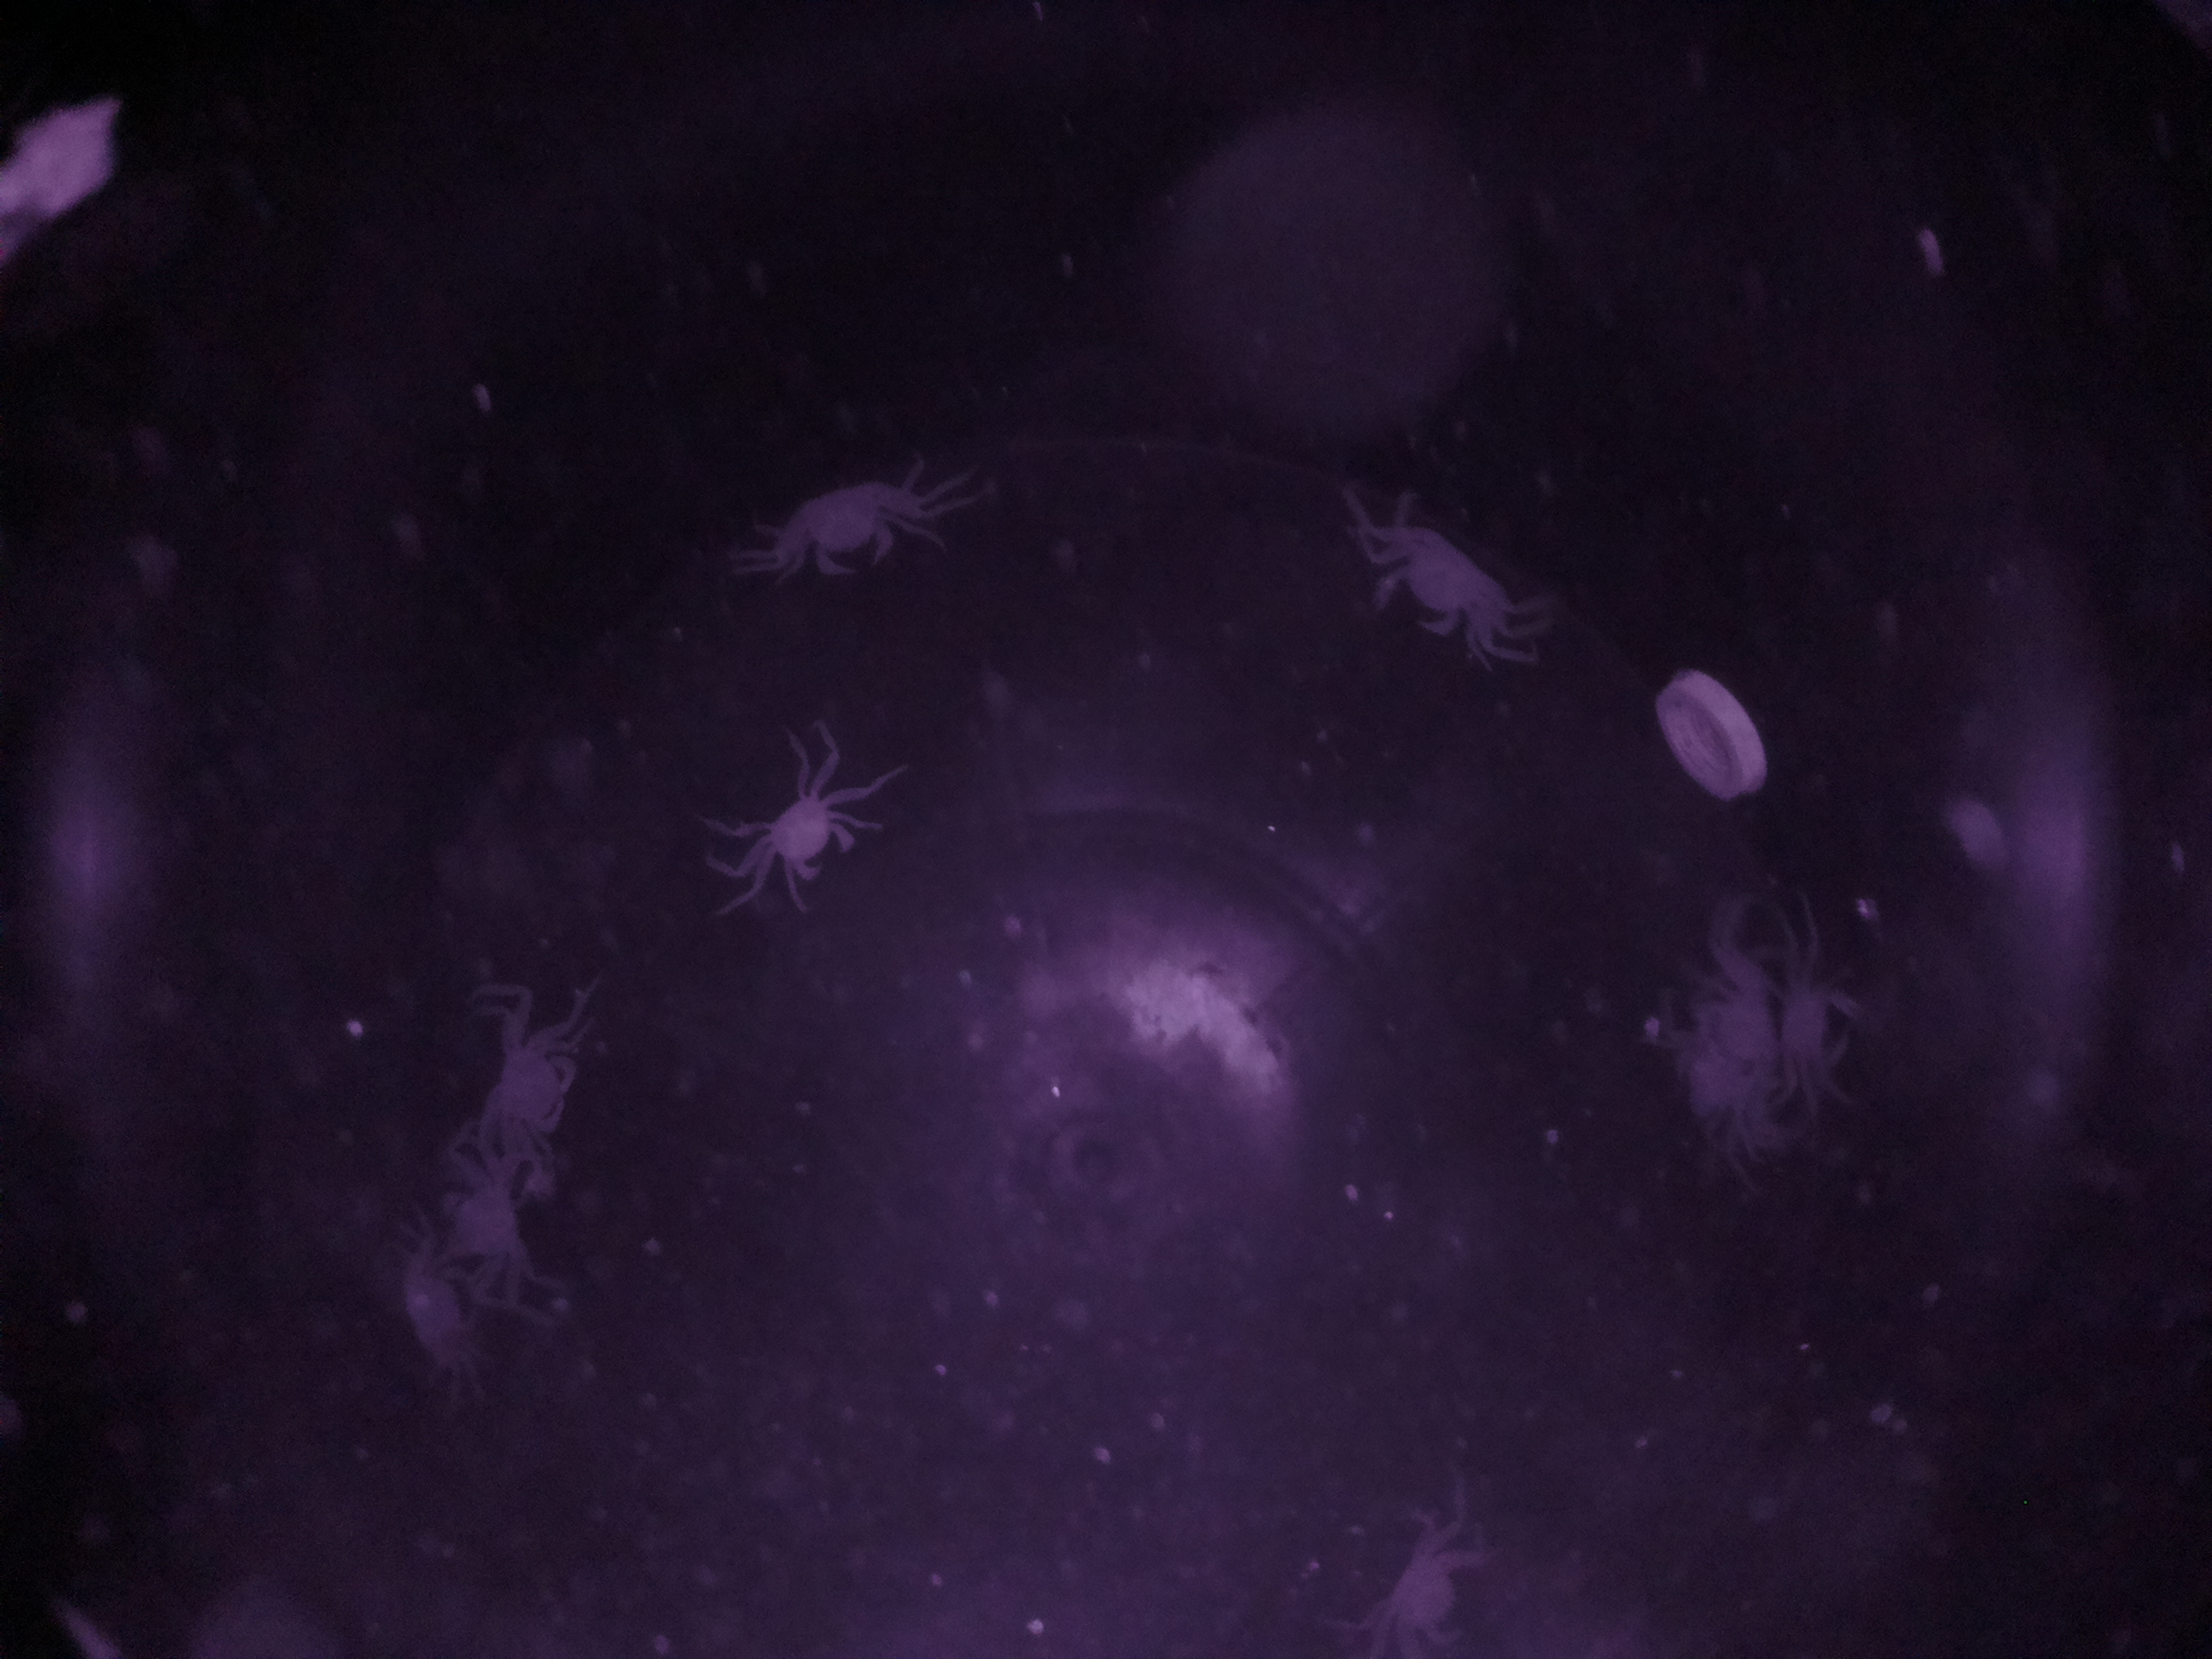Crab: (1334, 514, 1538, 671), (756, 436, 935, 608), (740, 746, 876, 922)
